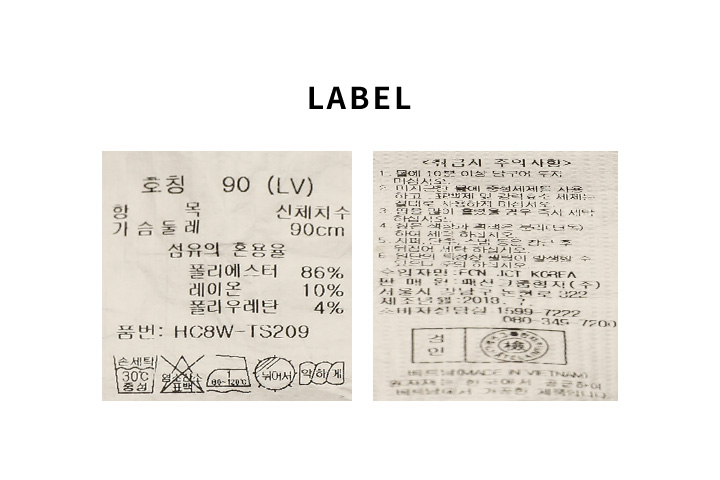KR_flat_dry_in_shade: (253, 350, 297, 394)
KR_gentle_wring: (298, 356, 348, 392)
KR_hand_wash_30_neutral: (110, 350, 158, 395)
KR_iron_low_temp_with_cloth: (204, 351, 252, 395)
KR_no_bleach: (160, 353, 205, 397)
